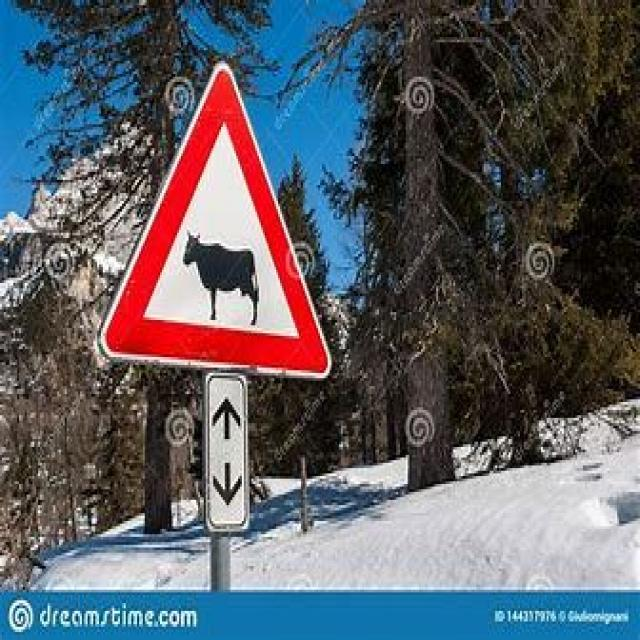CATTLE: (97, 56, 332, 383)
